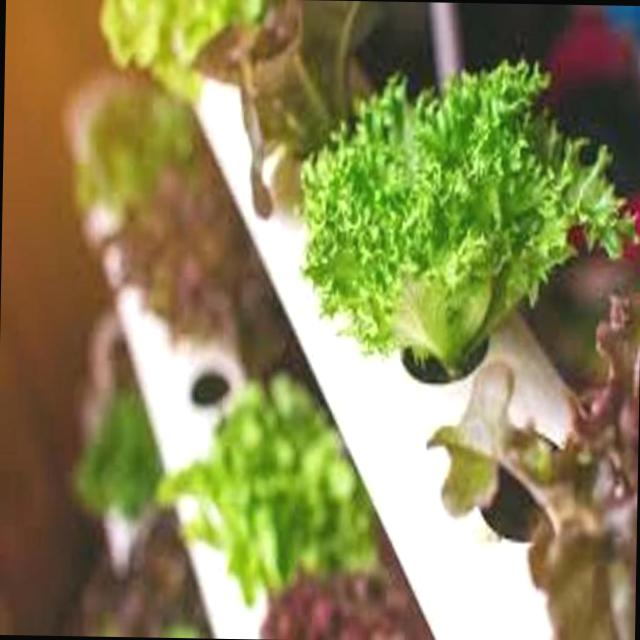Lettuce-Ready-to-Harvest: (302, 60, 632, 382), (437, 292, 640, 640), (116, 123, 313, 386), (163, 376, 373, 599), (201, 0, 359, 216), (73, 75, 196, 228), (262, 530, 433, 640), (80, 508, 211, 638), (100, 0, 264, 101), (75, 389, 162, 517)
